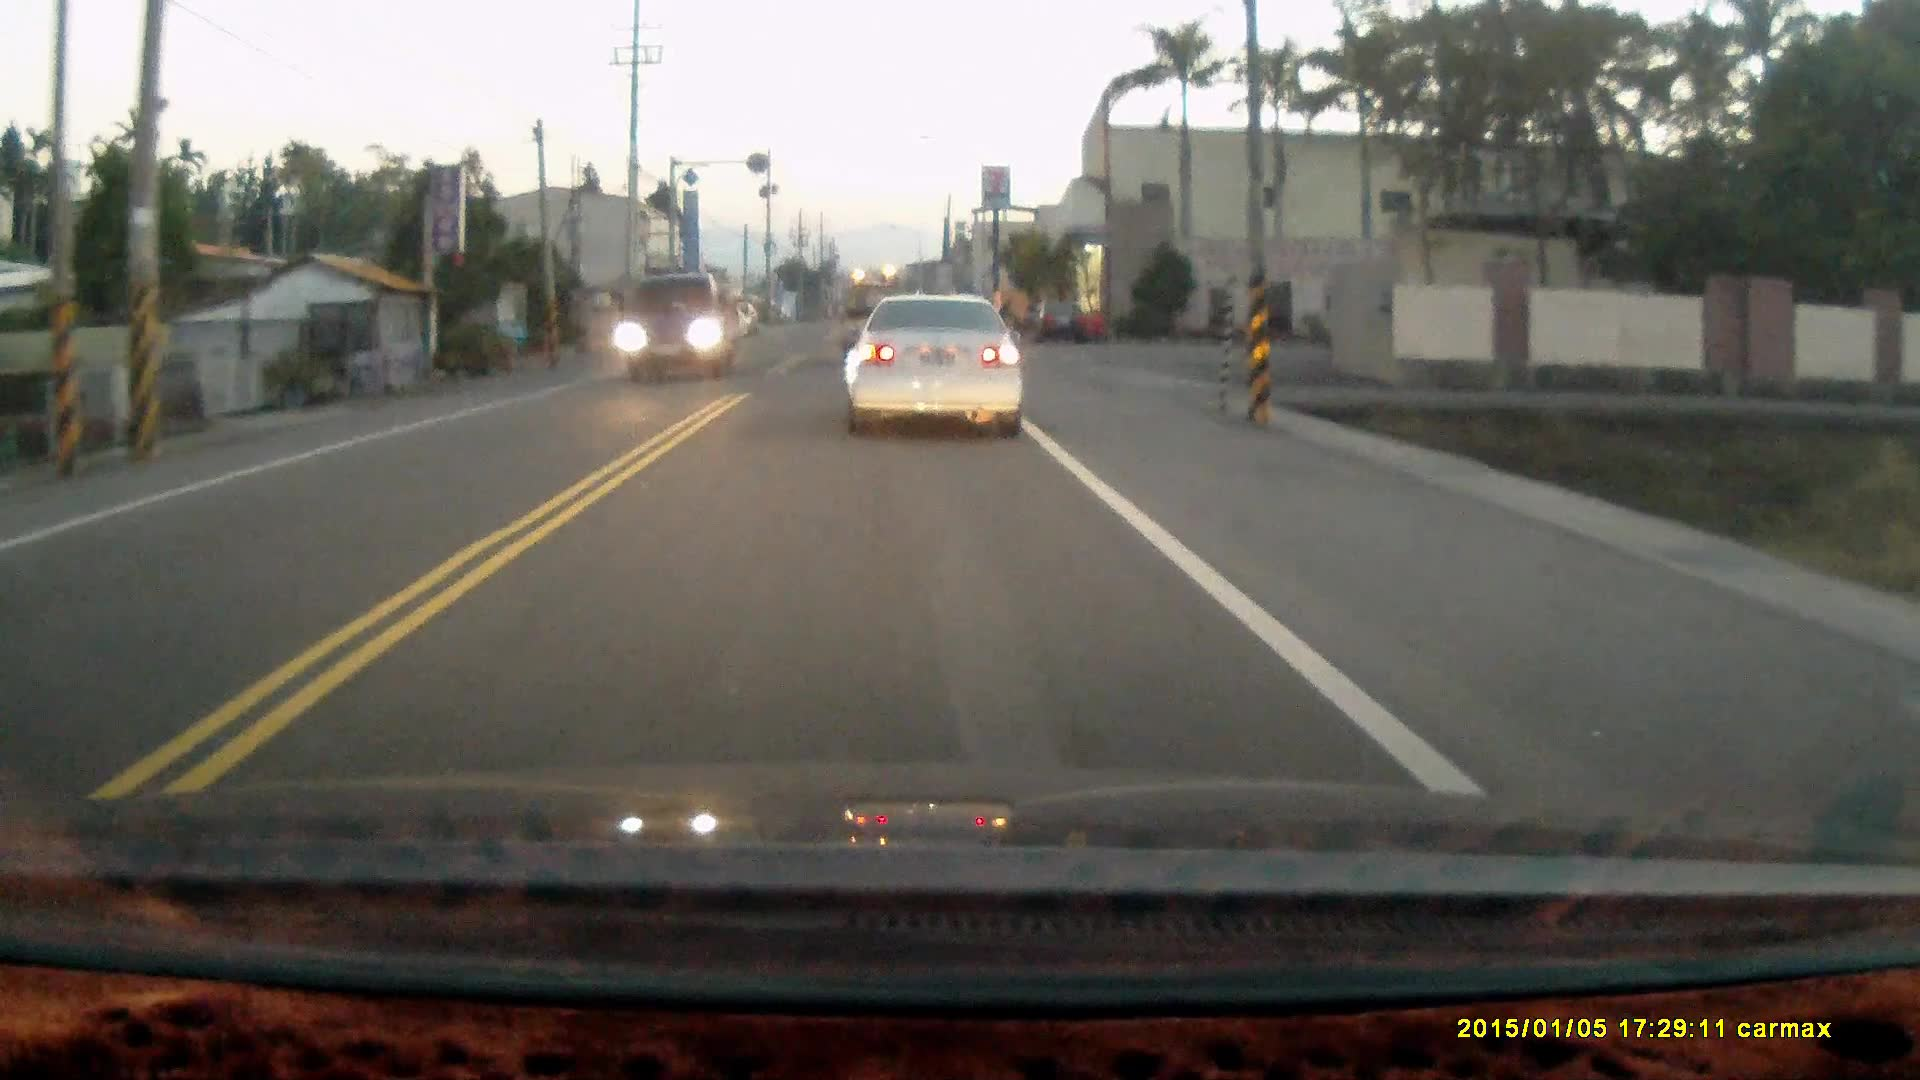vehicle: (852, 286, 1026, 440), (620, 268, 744, 380), (1034, 291, 1092, 340), (713, 302, 764, 339)
